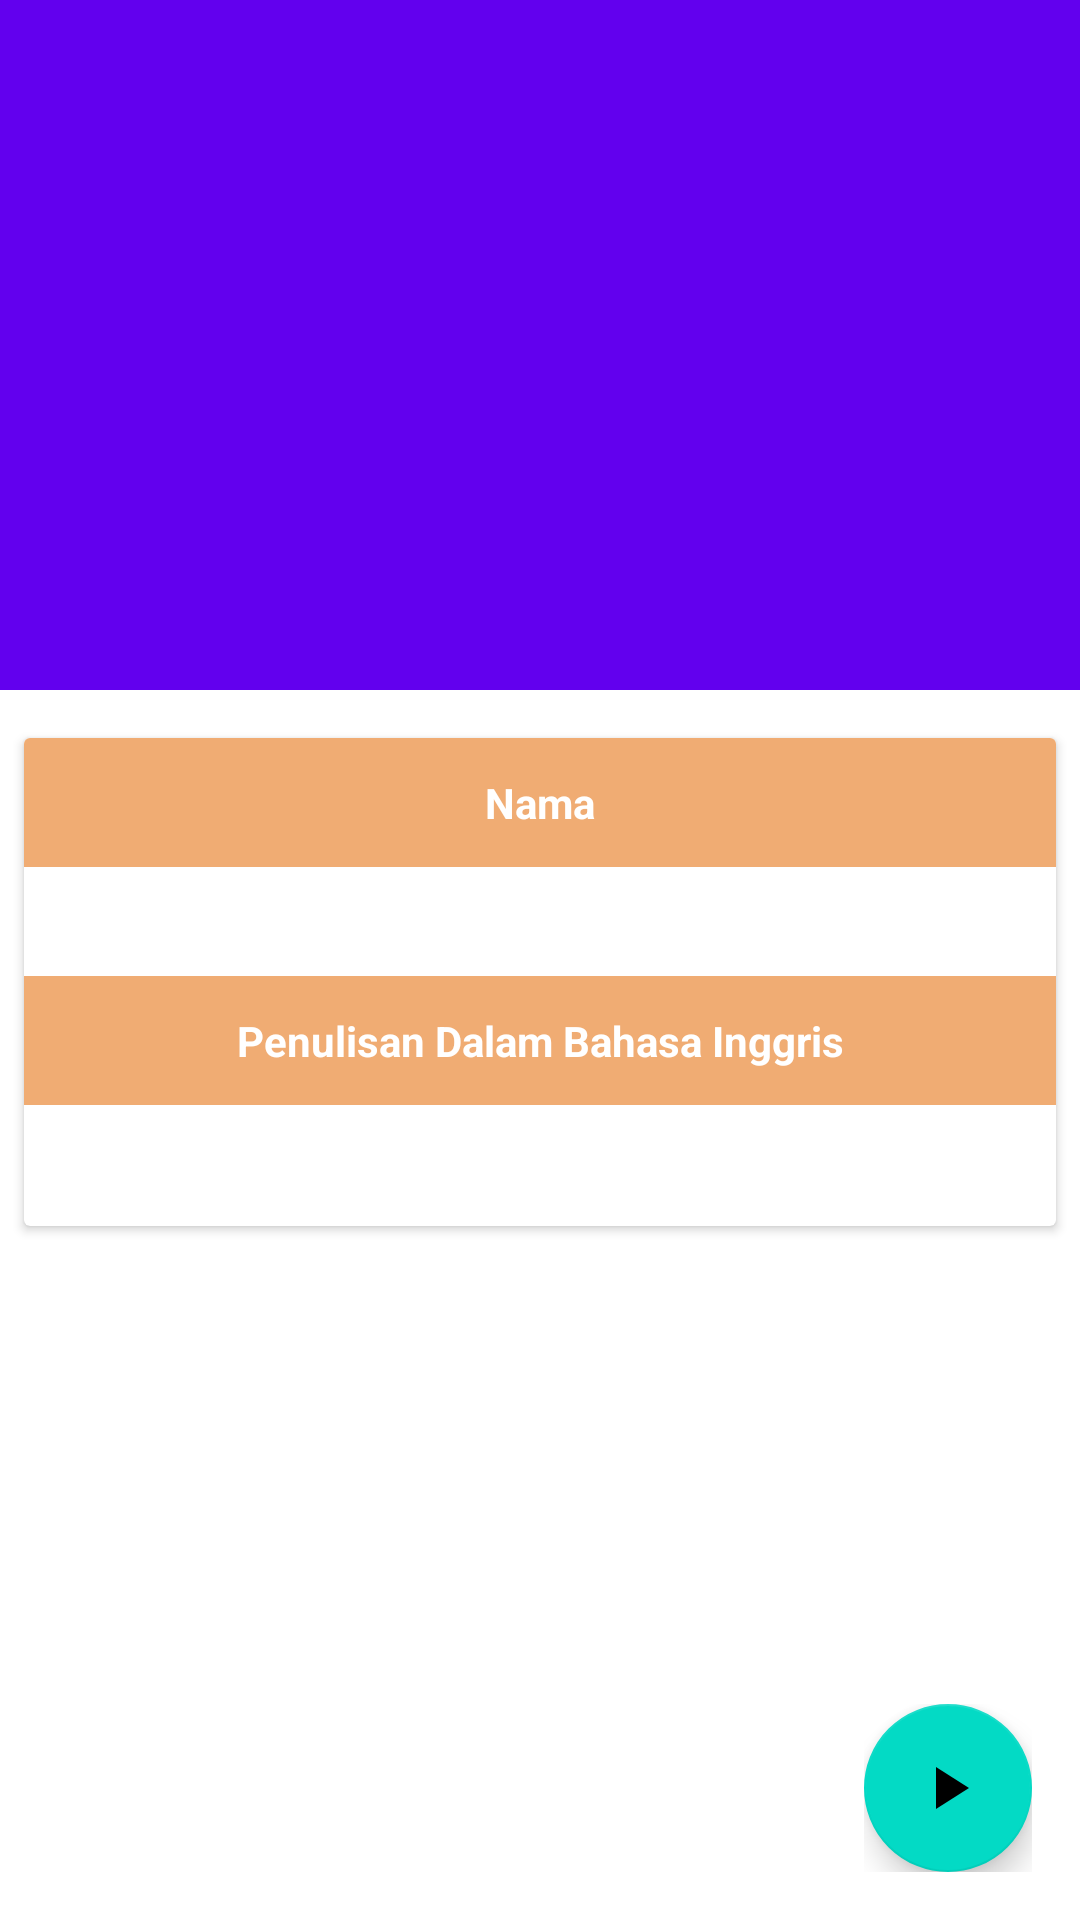

Icon bounding boxes for this 1080w x 1920h phone screenshot, format [x1,y1,x2,y2]:
play: [864,1704,1032,1872]
